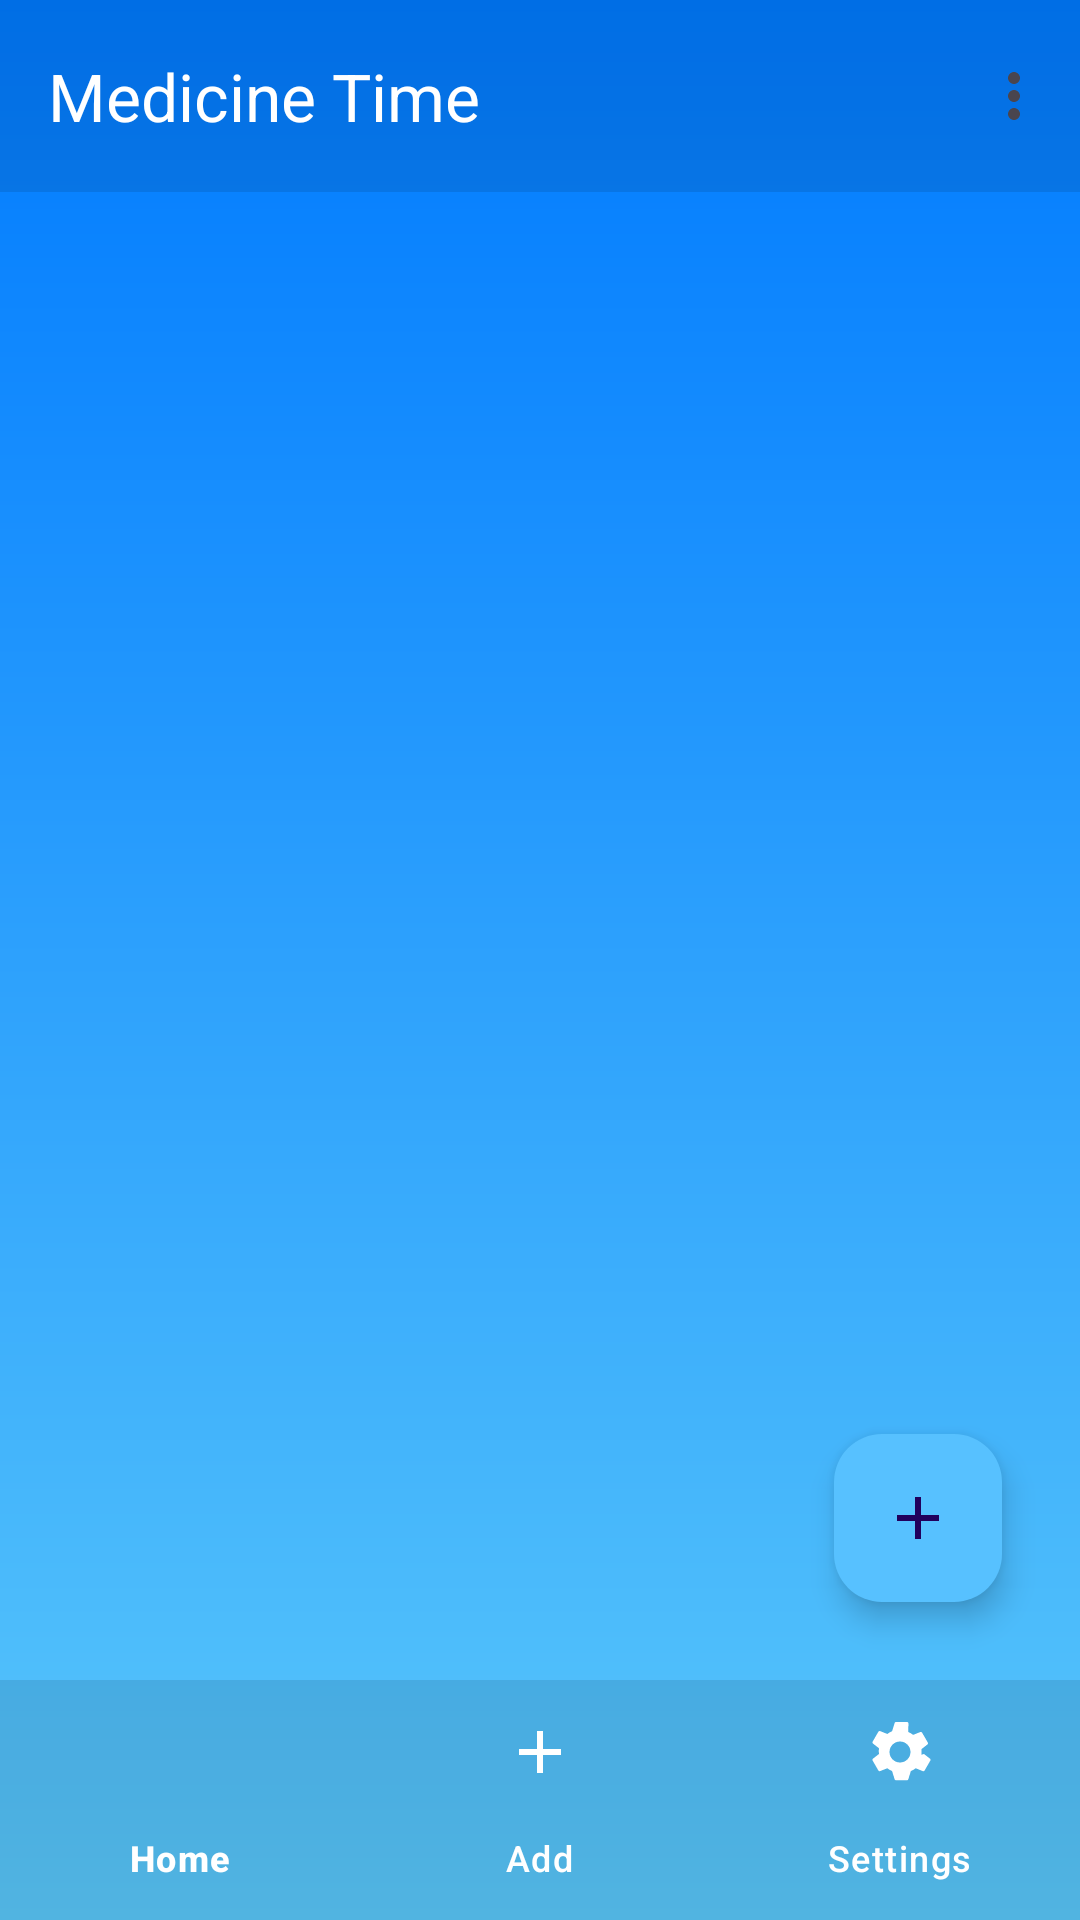

Named icons in this screenshot (1080×1920) and their bounding boxes, Rect(x1, y1, x2, y2):
add: Rect(834, 1434, 1002, 1602)
